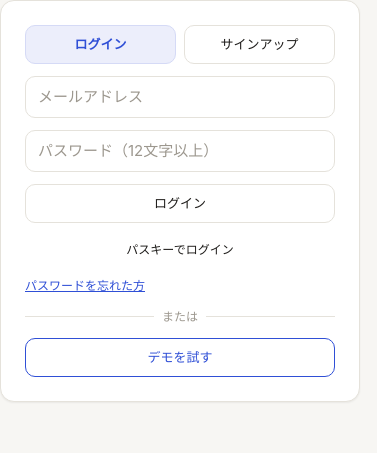
Test case: EMAIL_NOT_VERIFIED 以外の 403 は検証案内ではなく汎用エラーにする
This screenshot has width=377, height=453.
In the field with placeholder "メールアドレス": coordinates (180, 97) [25, 76, 335, 118], type "user@example.com"
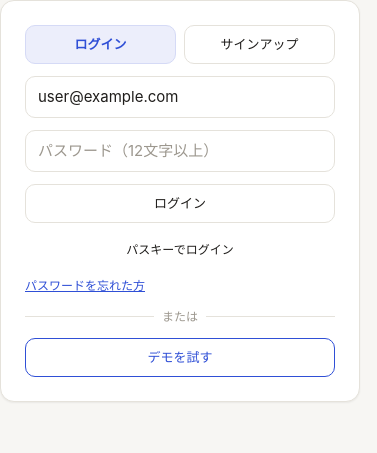
In the password field with placeholder "パスワード（12文字以上）": coordinates (180, 151) [25, 130, 335, 172], type "password1234"
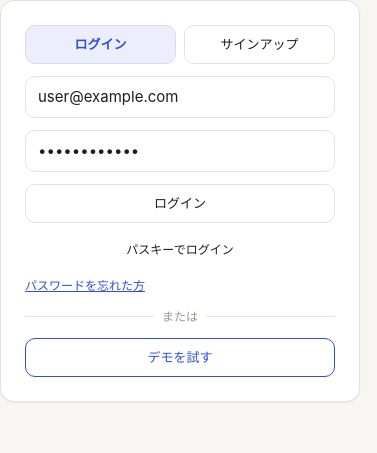
Click the 2nd button "ログイン": coordinates (180, 203) [25, 184, 335, 223]
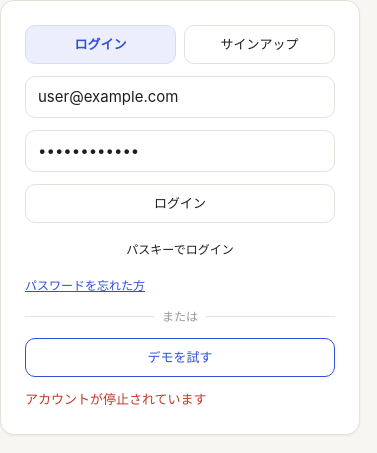
Check: the text "アカウントが停止されています" is shown, box [25, 391, 207, 407]
